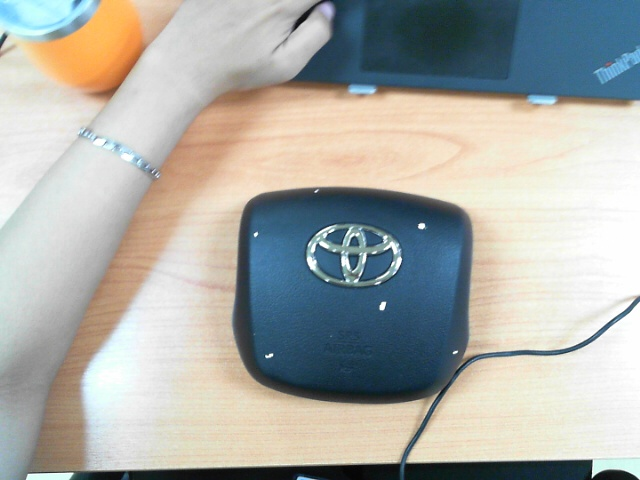Airbag: (378, 300, 387, 312), (264, 352, 274, 360), (417, 222, 426, 230), (253, 232, 259, 238), (452, 350, 458, 355), (314, 188, 319, 194)
